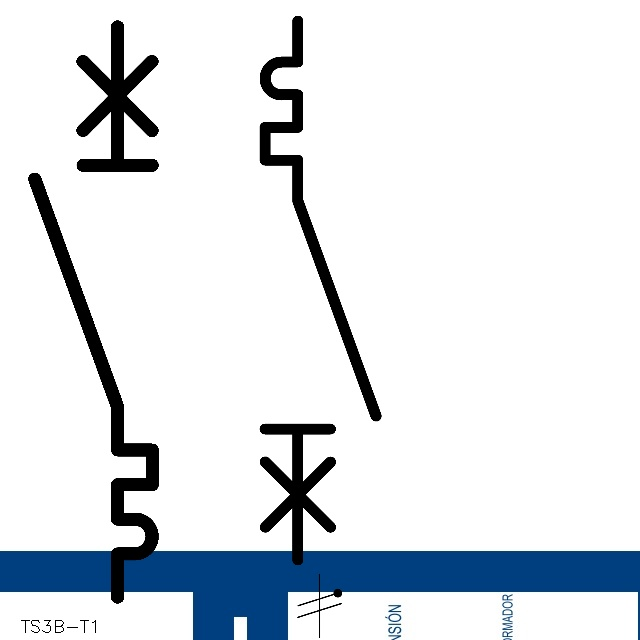interruptor_termomagnetico: (20, 12, 167, 612), (251, 7, 389, 574)
